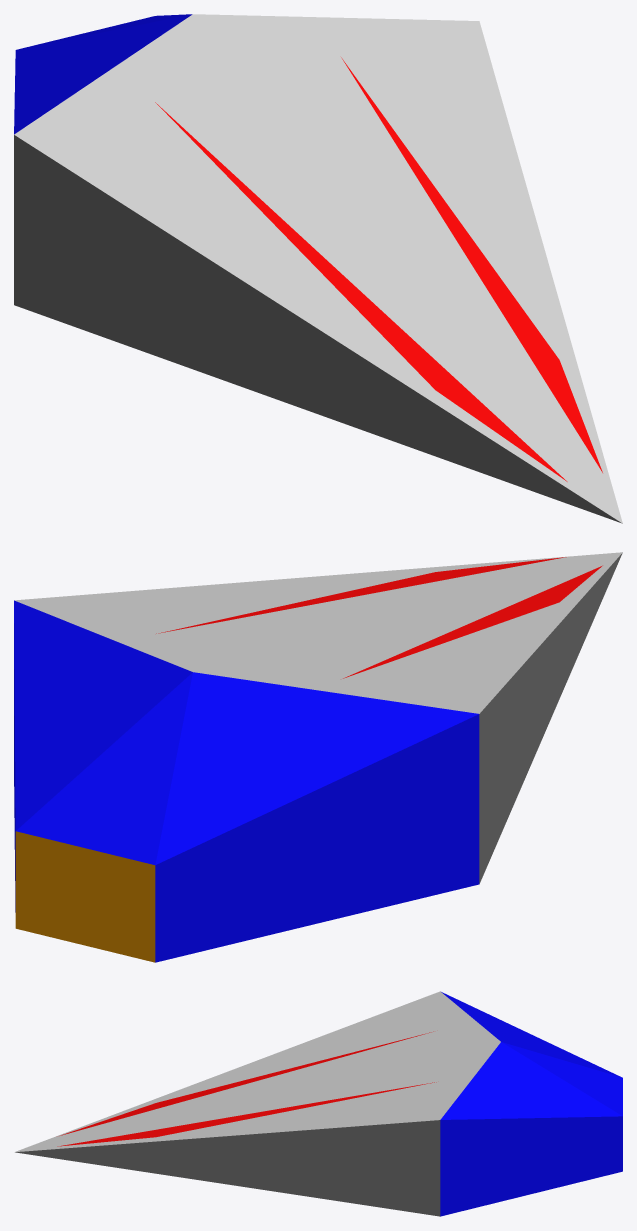
Rendered from ferdelance.obj.
The picture shows the model from 3 angles, top to bottom: view 1: azimuth 30°, elevation 25°; view 2: azimuth 150°, elevation 25°; view 3: azimuth 270°, elevation 25°; orthographic projection. The views are drawn at different scales.
Size of the model in its own units: 80 by 32 by 160.
